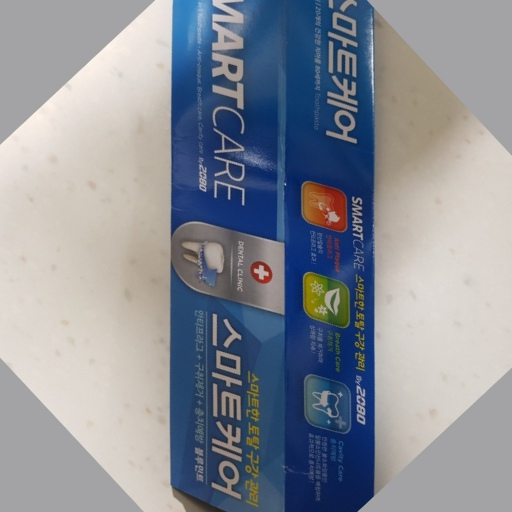Paper_0: (172, 1, 377, 512)
